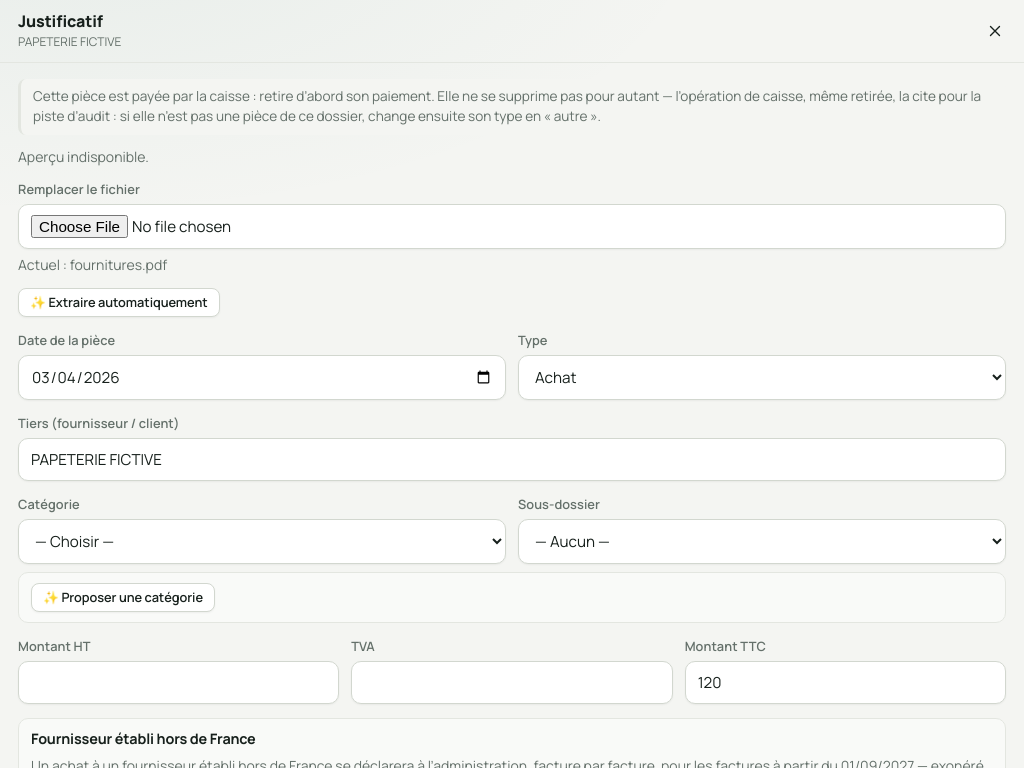
Test: la fiche d’une pièce devant la caisse › une pièce payée qui deviendrait une note de frais : le refus de la garde AVANT l’enregistrement, et rien ne part
Select "Note de frais" in the dropdown labelled "Type": (762, 377) x1=518 y1=355 x2=1006 y2=400
(page scrolled)
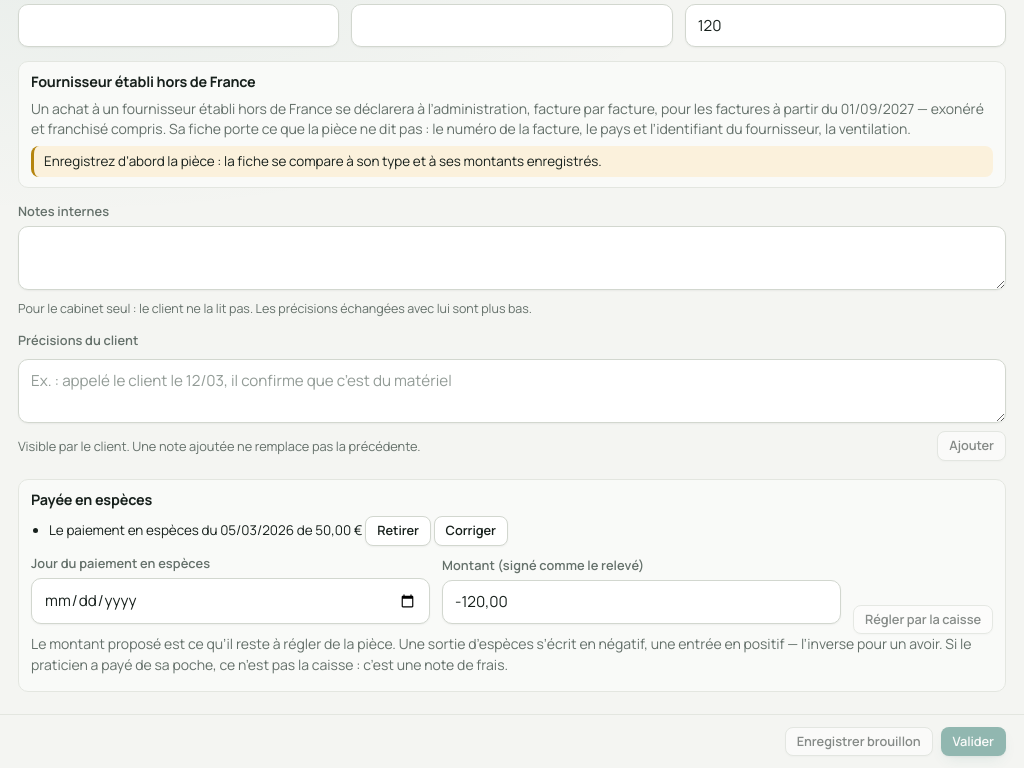
Click the button "Enregistrer brouillon": (859, 742) x1=785 y1=727 x2=933 y2=756
(page scrolled)
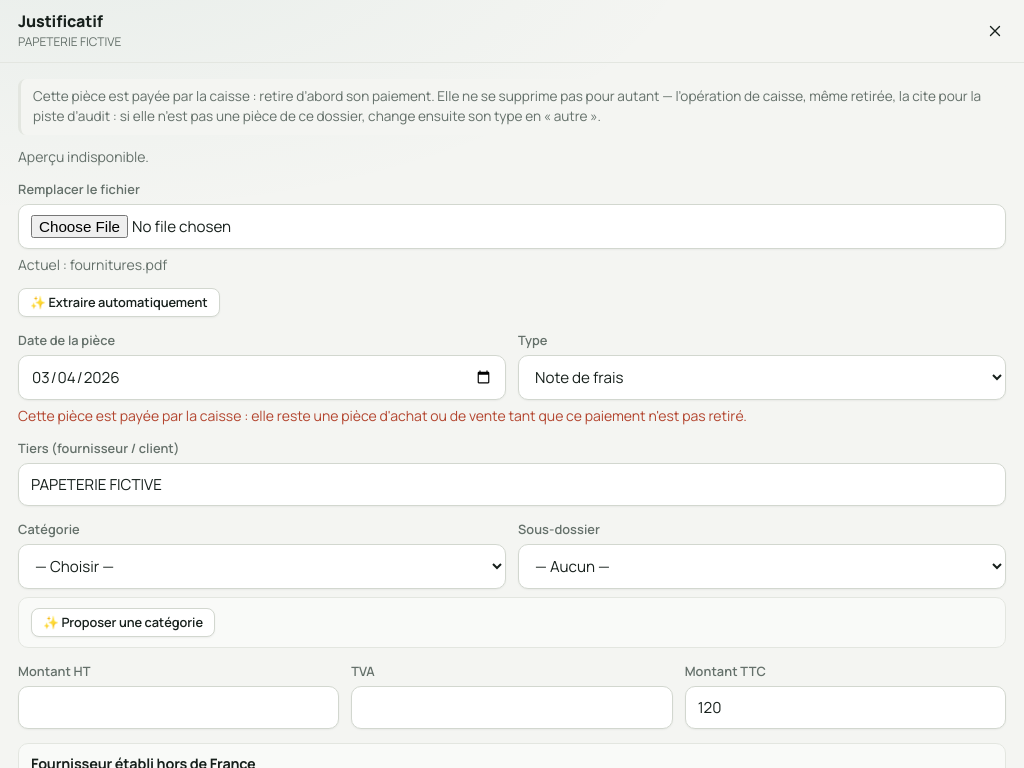
De vente, elle reste réglable : aucun refus.
Select "Vente" in the dropdown labelled "Type": (762, 377) x1=518 y1=355 x2=1006 y2=400
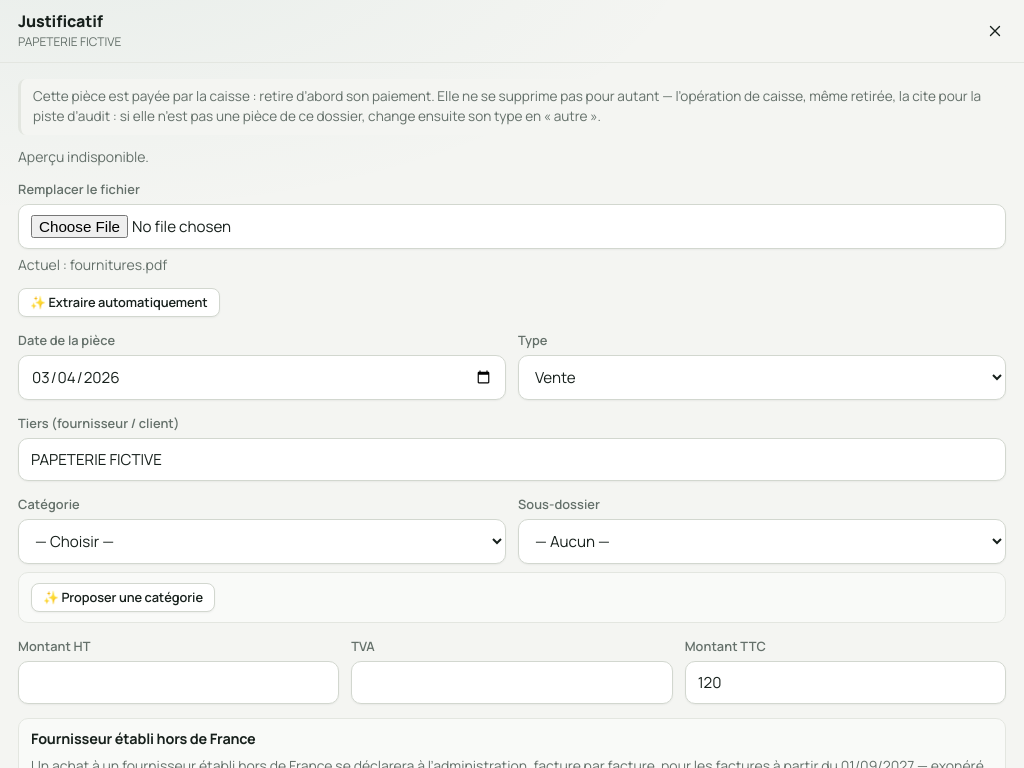
Result: the text "Cette pièce est payée par la caisse : elle reste une pièce d'achat ou de vente tant que ce paiement n'est pas retiré." is gone
